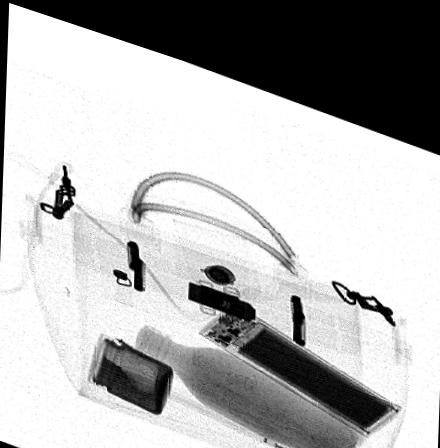Powerbank: (198, 283, 402, 413)
